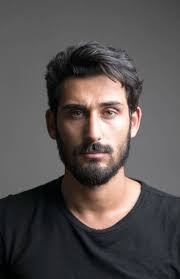middle_eastern_male: (49, 45, 138, 174)
